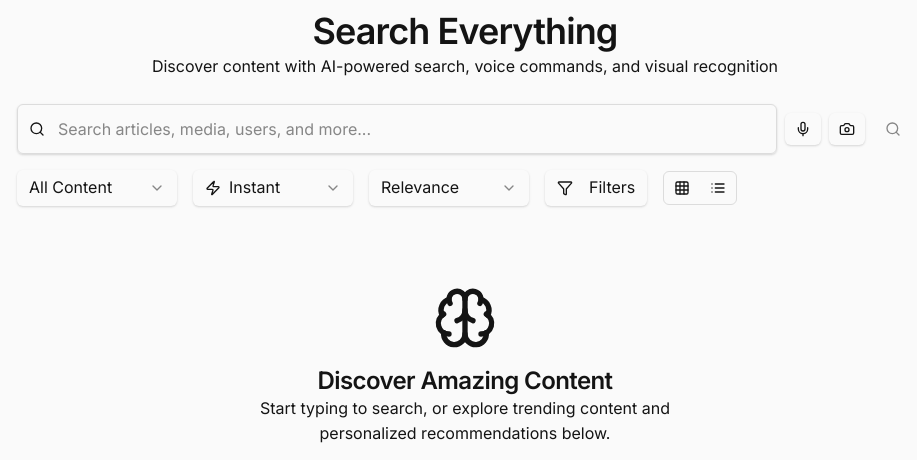
Test: SearchHub › handles sort order change
This screenshot has width=917, height=460.
Click the dropdown "Relevance": [449, 188] box x1=369 y1=170 x2=529 y2=206
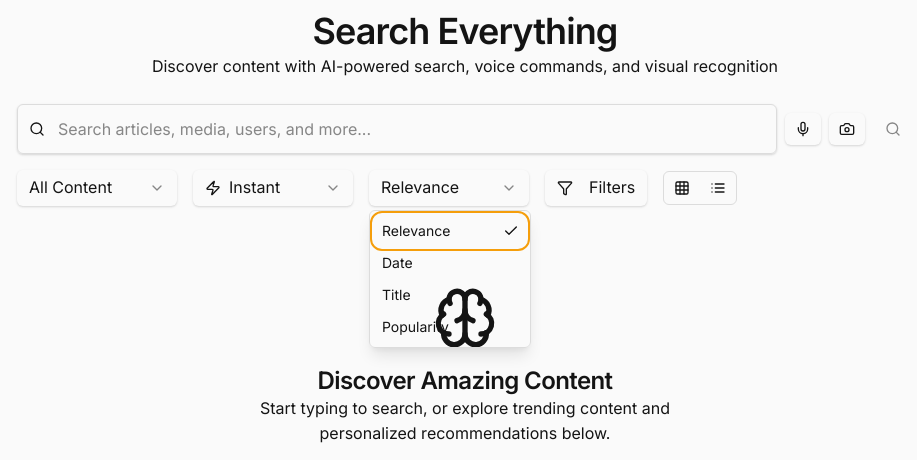
Check: the text "Date" is shown, box x1=382 y1=253 x2=413 y2=273
Check: the text "Title" is shown, box x1=382 y1=285 x2=411 y2=305
Check: the text "Popularity" is shown, box x1=382 y1=317 x2=449 y2=337
